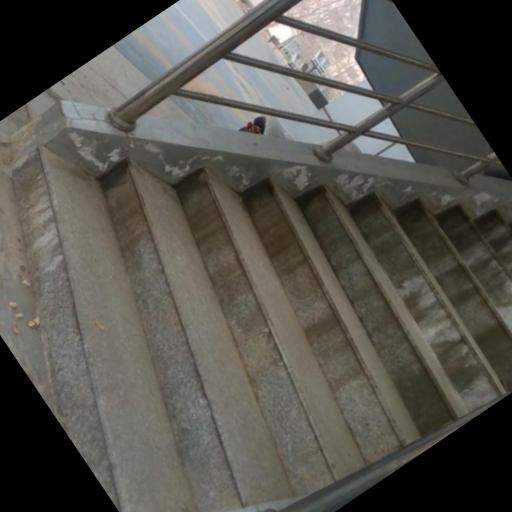stairs: (14, 148, 511, 511)
